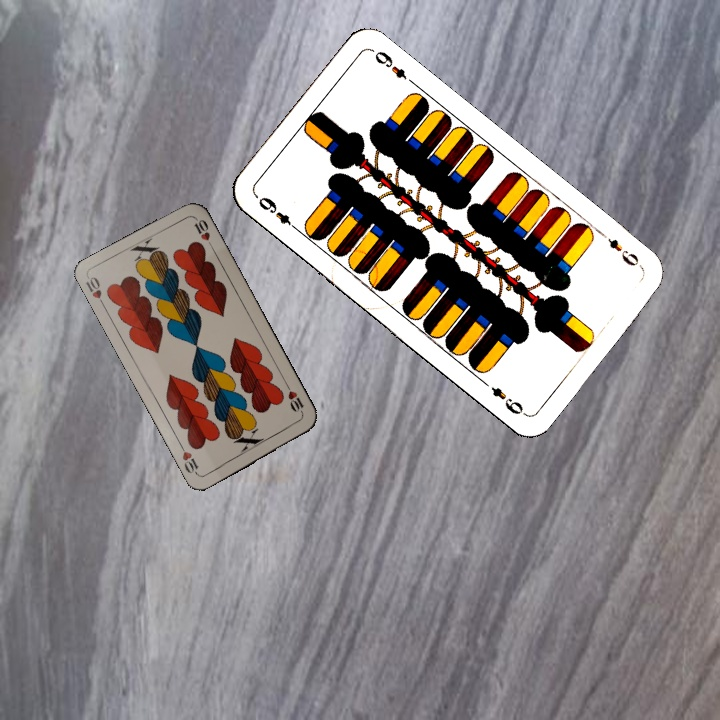E9: (596, 227, 645, 271), (254, 192, 302, 234)
H10: (82, 273, 108, 311), (282, 380, 306, 418)
